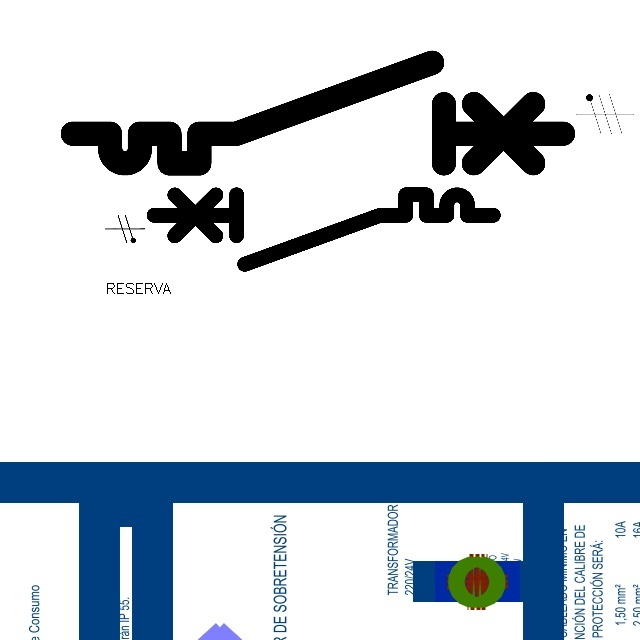interruptor_termomagnetico: (60, 50, 575, 176), (145, 186, 502, 273)
